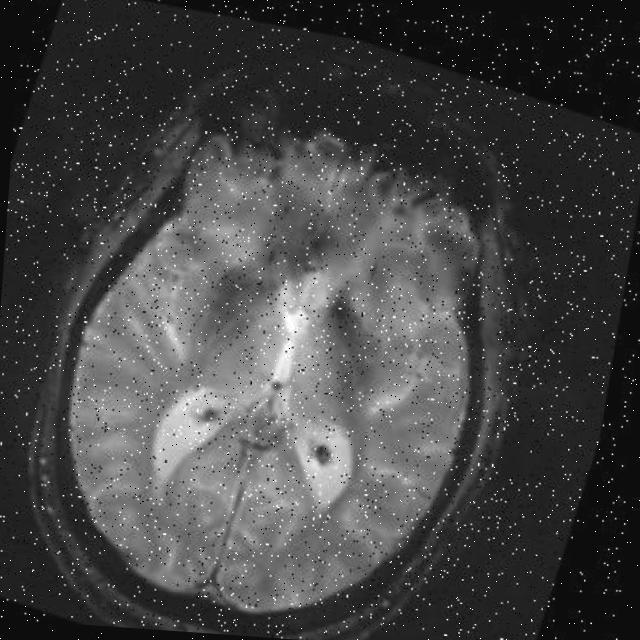LMCI: (310, 262, 390, 348)
MCI: (194, 246, 276, 334)
